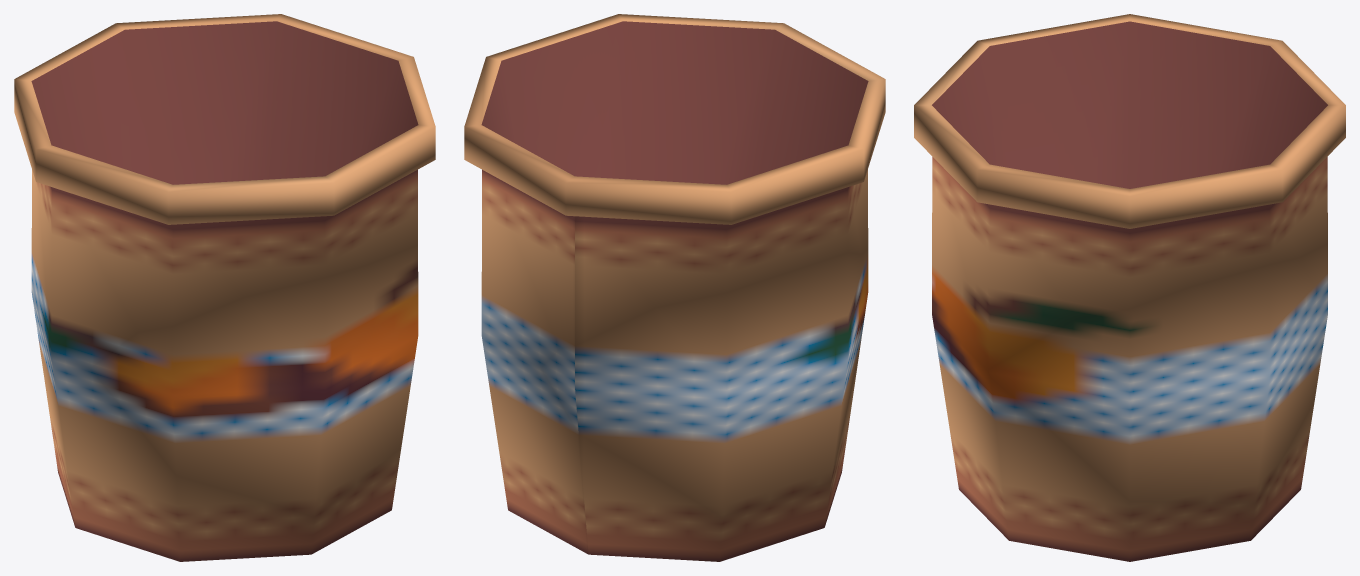
Rendered from Vasilha.fbx.
3 views of the same model, side by side, from view 1: azimuth 30°, elevation 25°; view 2: azimuth 150°, elevation 25°; view 3: azimuth 270°, elevation 25° (orthographic).
Parts seen in each view (by area): view 1: Vasilha; view 2: Vasilha; view 3: Vasilha.
Boxes of the visible parts, <box> form: Vasilha: <box>14,14,435,561</box>; Vasilha: <box>464,14,885,561</box>; Vasilha: <box>914,14,1345,561</box>.
Bounding box in the file's own units: 60.79 × 60.79 × 59.7.
